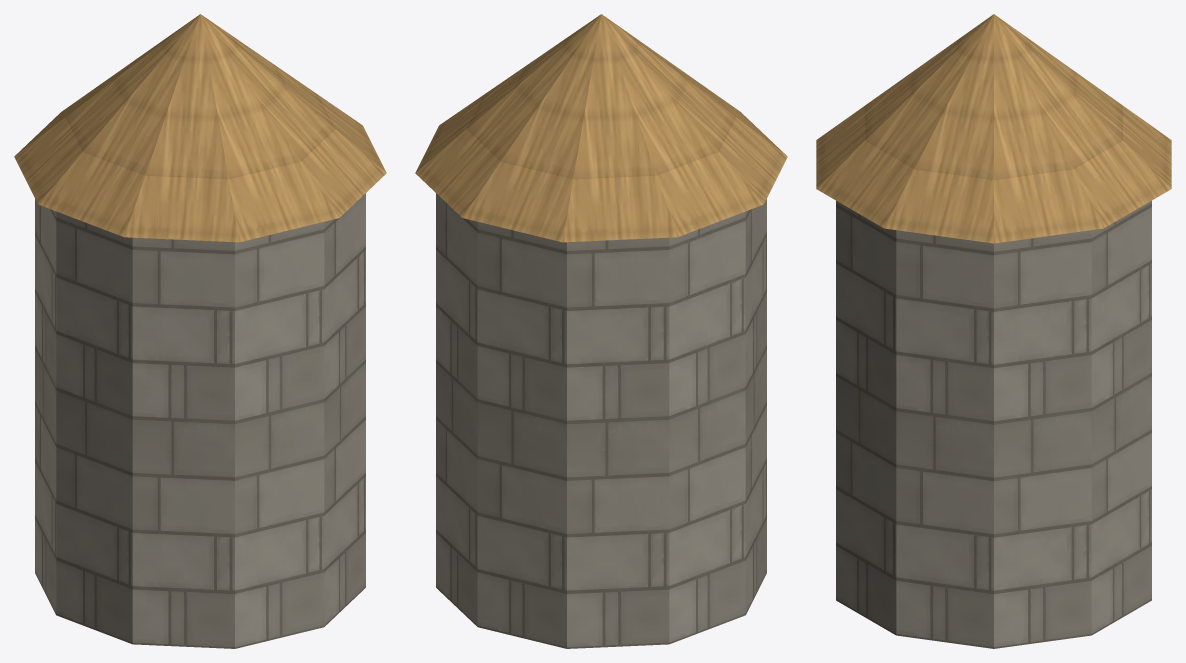
Rendered from tower.wallet.t0.glb.
3 renders of one model, left to right at view 1: azimuth 30°, elevation 25°; view 2: azimuth 150°, elevation 25°; view 3: azimuth 270°, elevation 25°, orthographic.
Parts seen in each view (by area): view 1: castle.tower.wallet.t0; view 2: castle.tower.wallet.t0; view 3: castle.tower.wallet.t0.
Boxes of the visible parts, x1,y1,x2,y2 form: castle.tower.wallet.t0: (14,14,386,648); castle.tower.wallet.t0: (415,14,787,648); castle.tower.wallet.t0: (816,14,1171,648).
Size of the model in its own units: 1.8 by 3 by 1.71.
2 materials, 2 textured.
